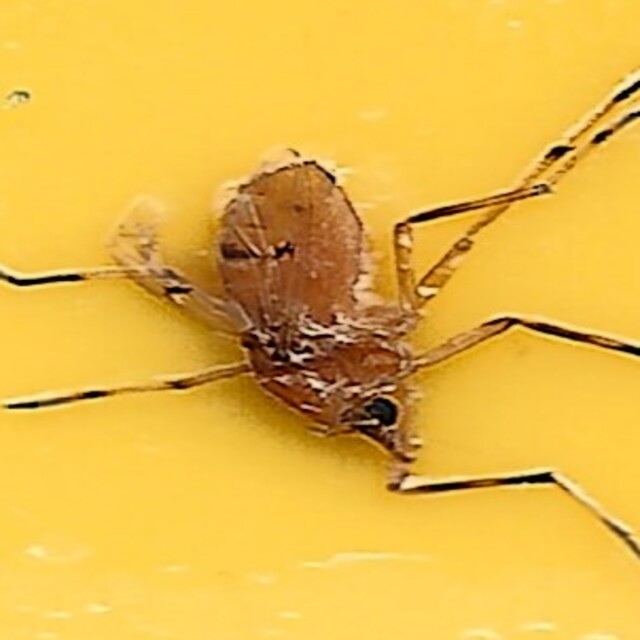Nematocera: (212, 162, 428, 478)
